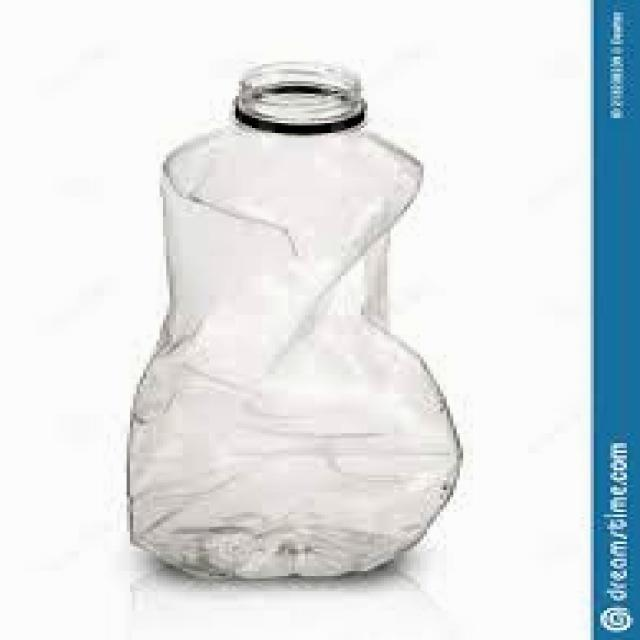BIODEGRADABLE: (94, 46, 498, 592)
